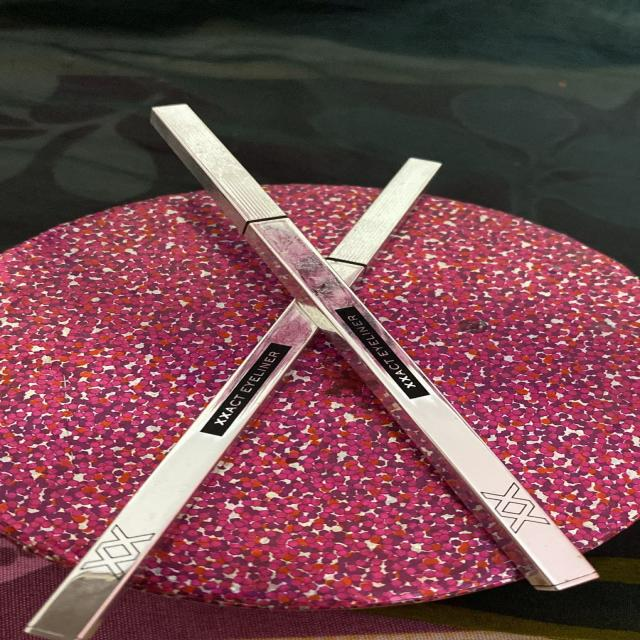eye liner: (0, 91, 640, 640)
